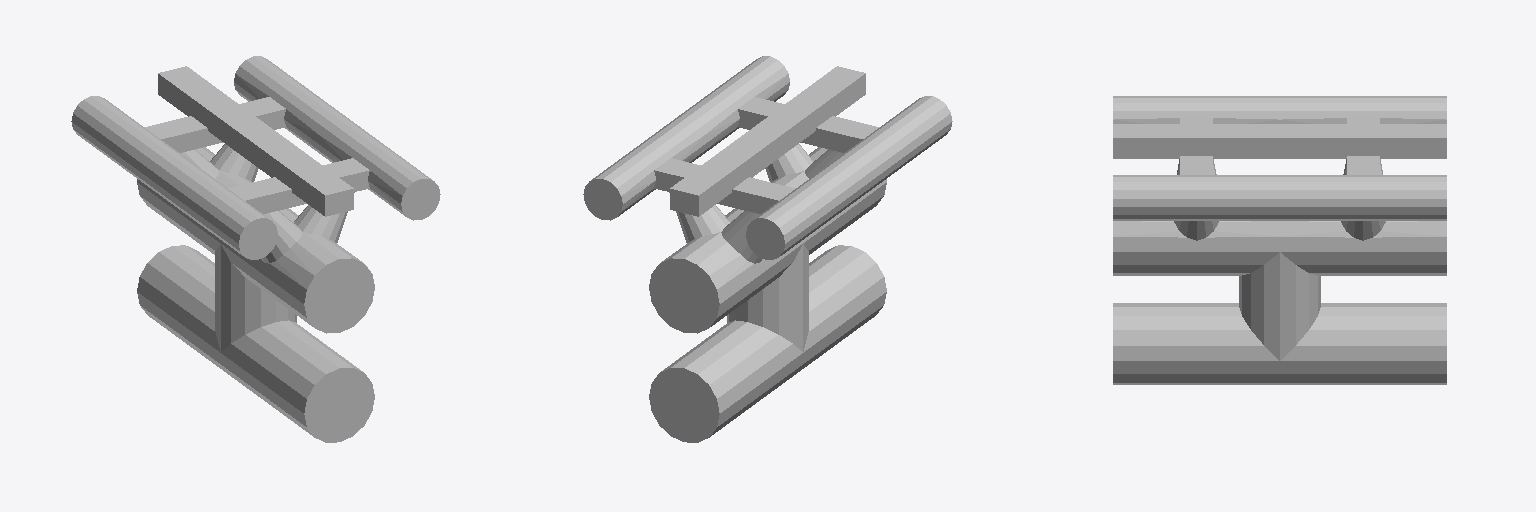
Rendered from intamindouble_lift.obj.
3 renders of one model, left to right at view 1: azimuth 30°, elevation 25°; view 2: azimuth 150°, elevation 25°; view 3: azimuth 270°, elevation 25°, orthographic.
Bounding box in the file's own units: 1.04 × 1.24 × 1.5.